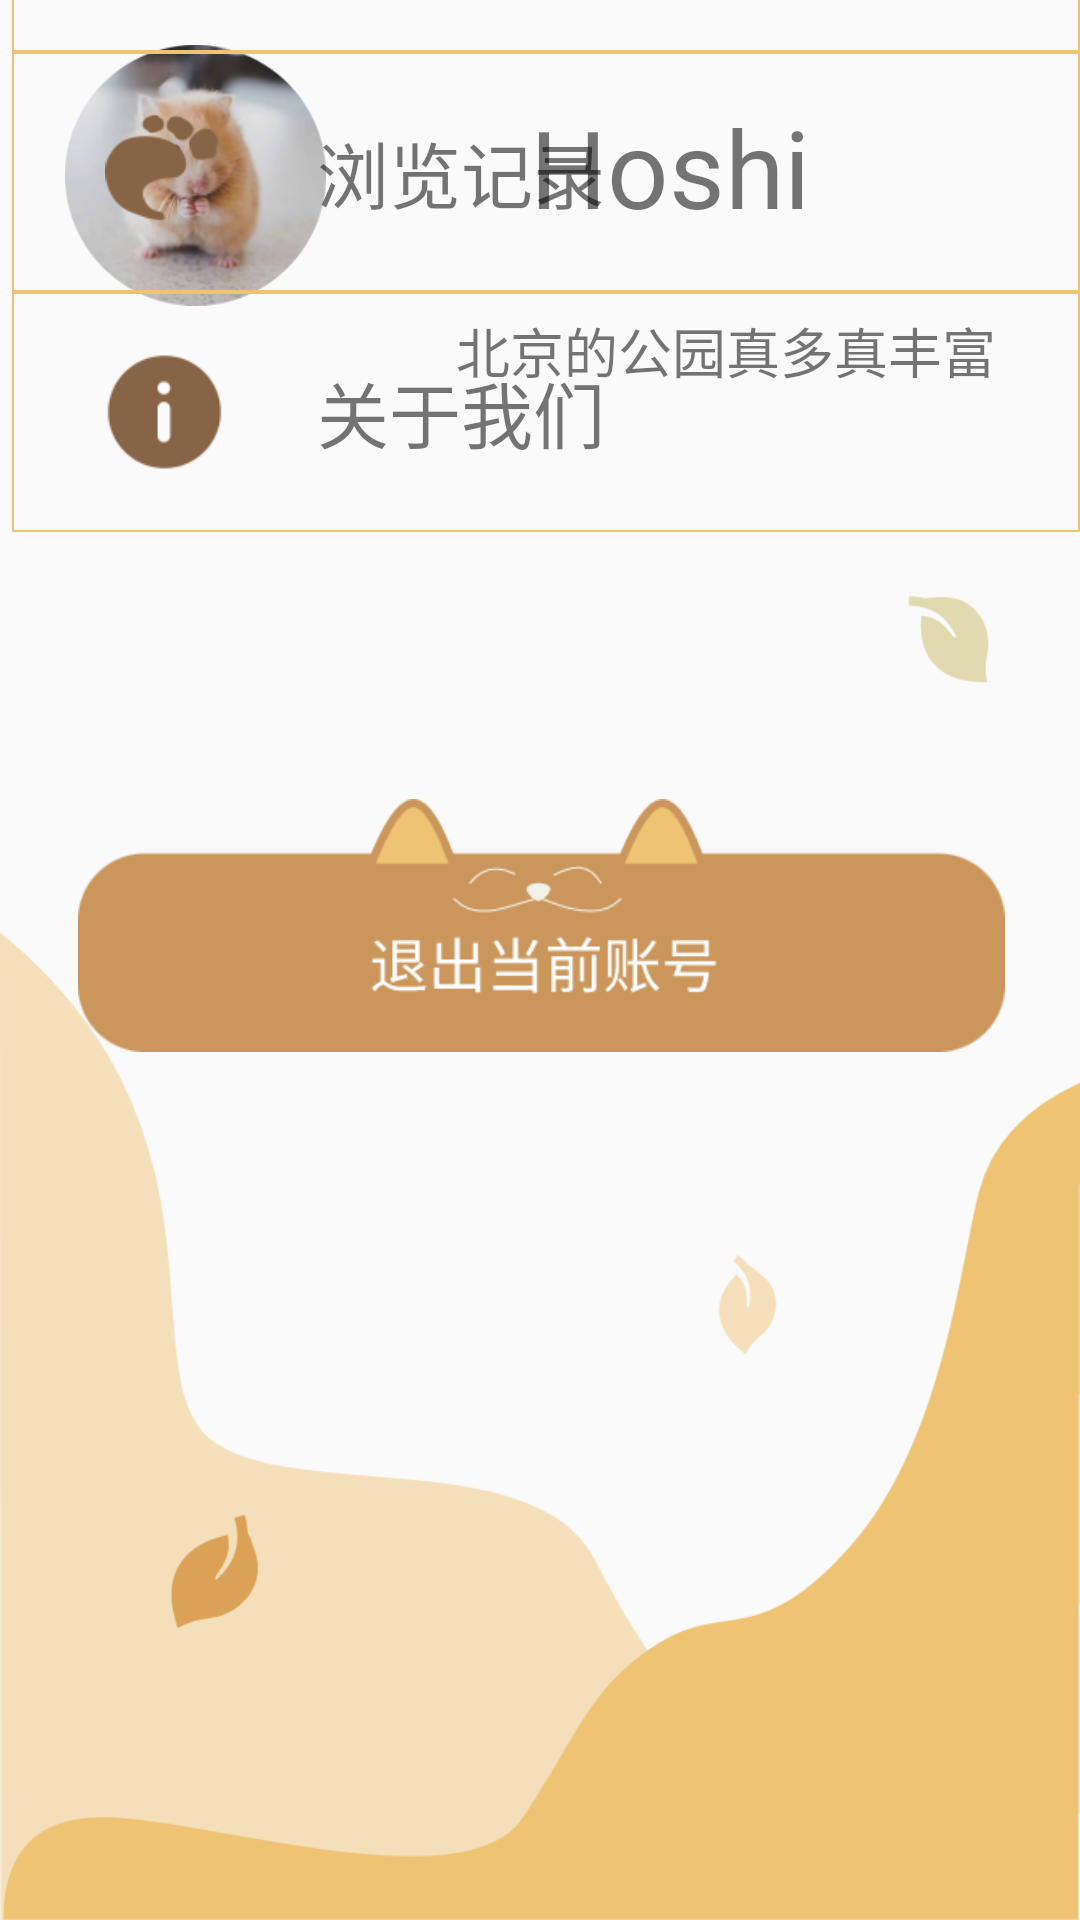

Point at icon controls on the screen. Image size 1080 × 1920, points as point (x, y).
mice: point (195, 175)
